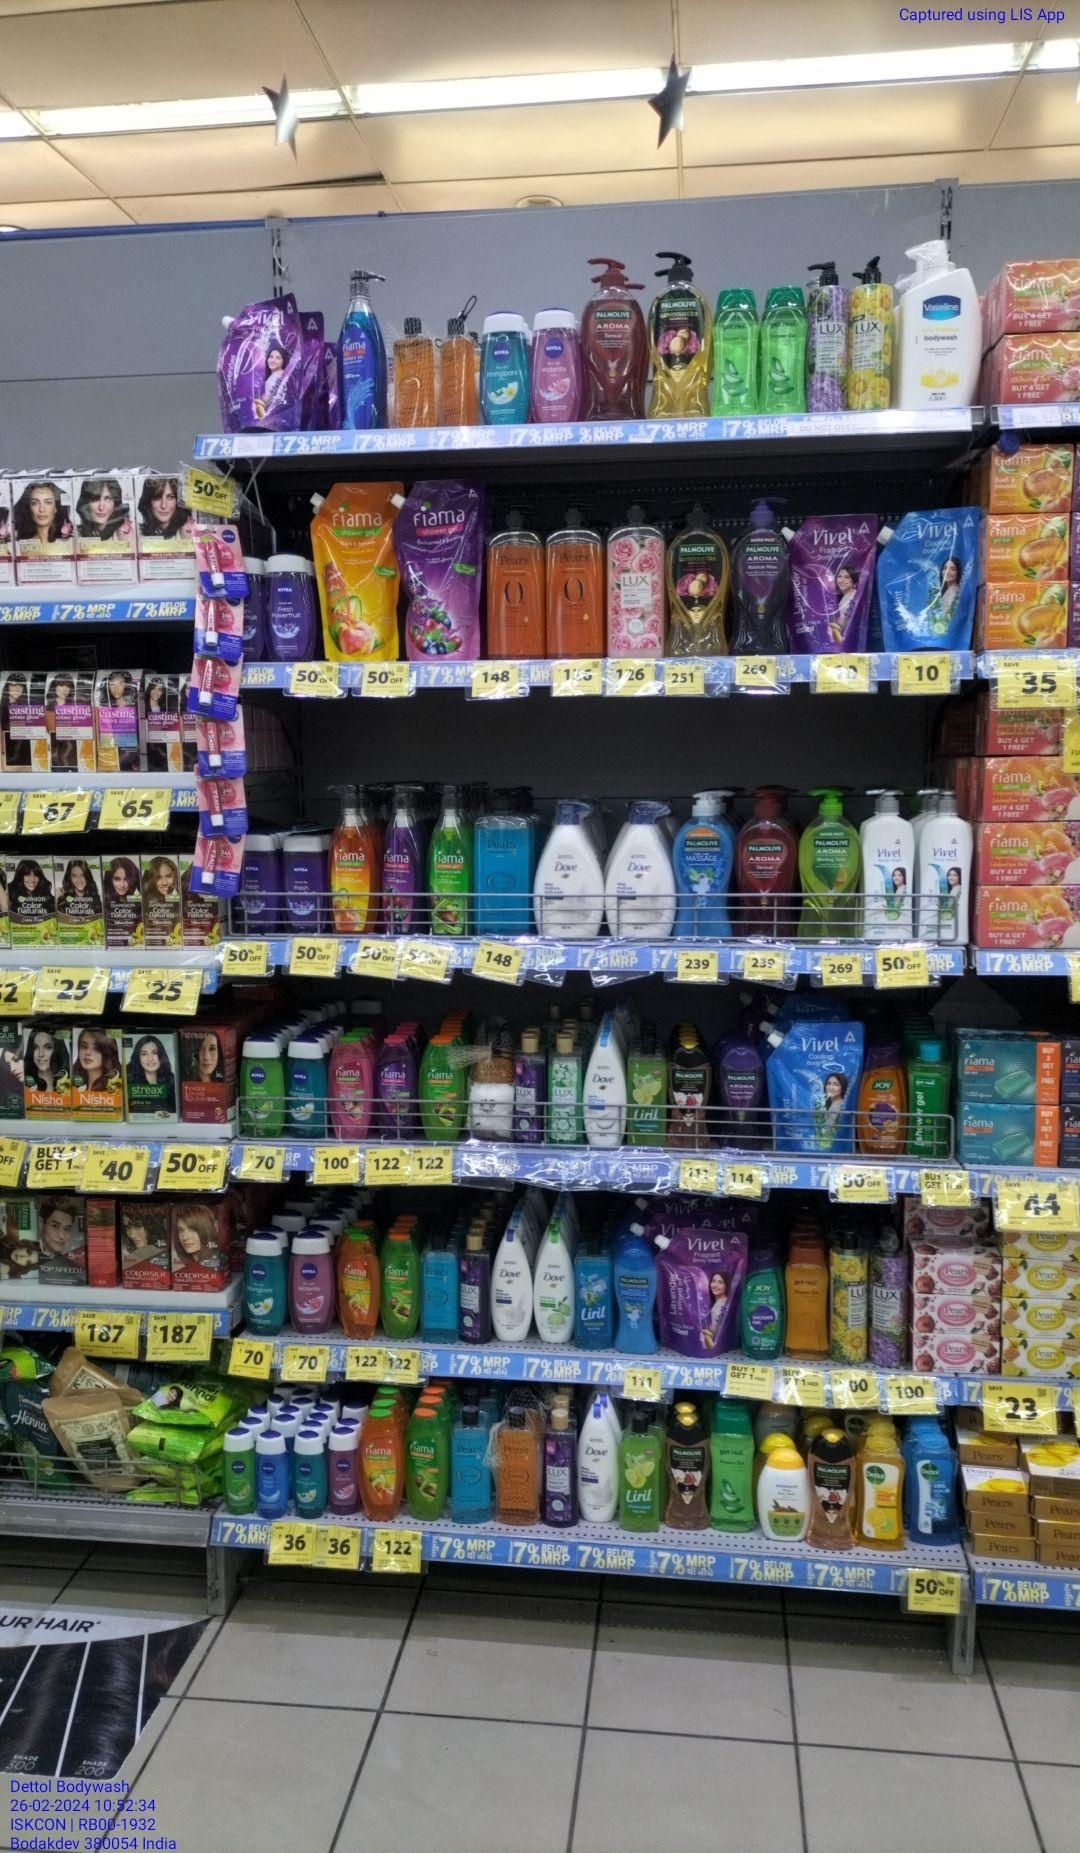Dettol_Bodywash_Cool: (909, 1430, 959, 1546)
Dettol_Bodywash_Refresh: (859, 1439, 905, 1555)
Dove_Deep_Moisture_Body_Wash_250ML: (577, 1399, 621, 1524), (487, 1227, 532, 1344)
Dove_Gentle_Exfoliating_Body_Wash_250ML: (586, 1031, 626, 1148)
Dove_Refreshing_Body_Wash_250ML: (531, 1230, 571, 1345)
Fiama_Shower_Gel_Lemongrass_and_Jojoba_250ML: (417, 1037, 467, 1139), (382, 1231, 418, 1336)
Fiama_Shower_Gel_Patchouli_and_Macadamia_250ML: (330, 1031, 375, 1137)
Fiama_Shower_Gel_Peach_and_Avocado_250ML: (359, 1411, 404, 1520), (337, 1228, 379, 1338)
Get_Real_Shower_Gel_Moisturising_Glycerin_300ML: (784, 1246, 828, 1358)
Lux_Black_Orchid_Scent_and_Juniper_Oil_Body_Wash_245ML: (512, 1036, 546, 1142)
Lux_Body_Wash_Skin_Detox_Freesia_Scent_and_Alove_Vera_245ML: (546, 1034, 584, 1141)
Nivea_Shower_Gel_Frangipani_and_Oil_250ML: (478, 311, 530, 423)
Nivea_Shower_Gel_Lemon_and_Oil_250ML: (402, 1408, 447, 1520)
Nivea_Shower_Gel_Waterlily_and_Oil_250ML: (531, 302, 582, 425)
Palmolive_Luminous_Oils_With_White_Orchid_Shower_Gel_250ML: (665, 1407, 712, 1529), (810, 1429, 858, 1551)
